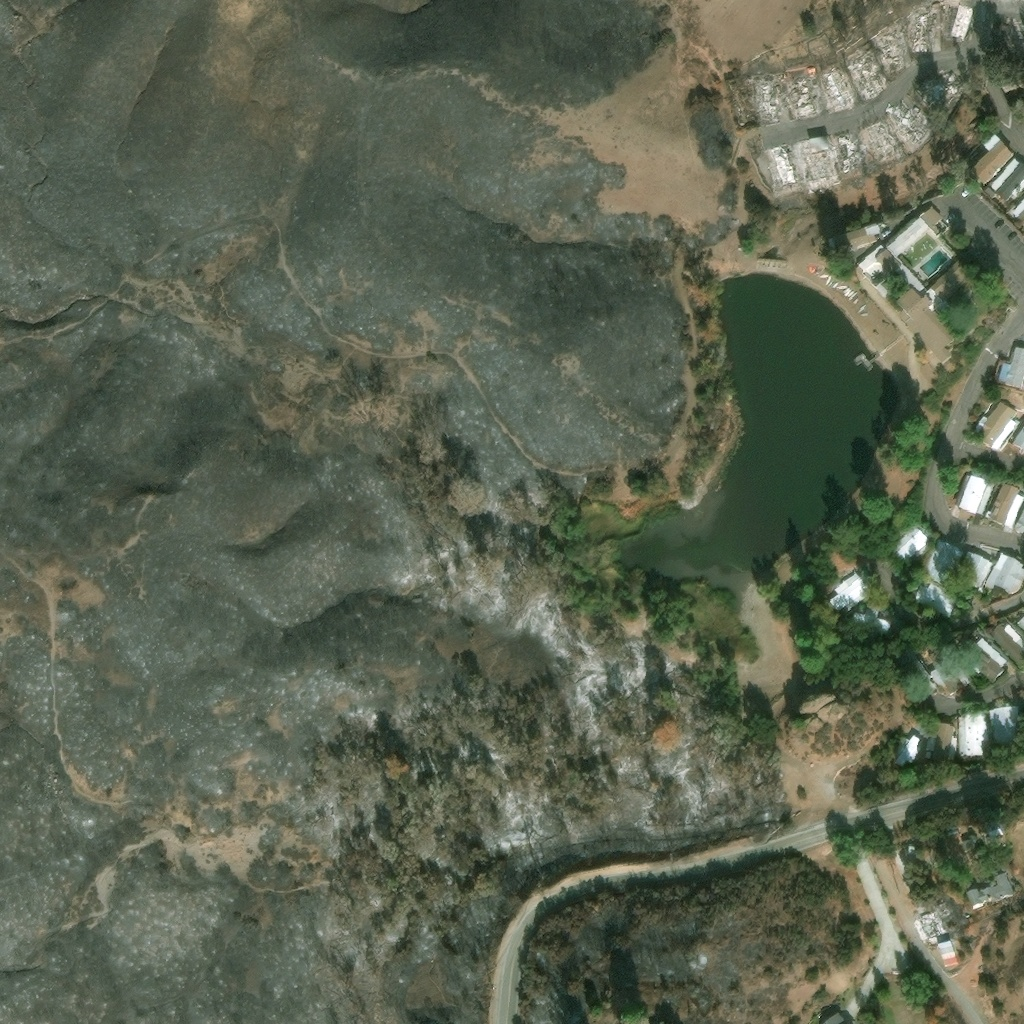0 no-damage: (858, 204, 975, 362), (973, 398, 1021, 451), (971, 133, 1015, 185), (923, 538, 964, 587), (964, 637, 1008, 682), (966, 868, 1015, 907), (830, 569, 873, 613), (890, 524, 934, 566), (956, 470, 996, 516), (953, 549, 993, 592), (957, 708, 990, 759), (985, 551, 1023, 594), (991, 482, 1023, 533), (914, 582, 958, 617), (925, 720, 961, 760), (991, 157, 1023, 200), (990, 622, 1023, 662), (983, 76, 1014, 118), (988, 704, 1019, 744), (997, 345, 1023, 389), (892, 733, 923, 766), (903, 654, 933, 687), (854, 606, 893, 631), (937, 935, 962, 967), (931, 665, 955, 689), (1007, 199, 1023, 226), (823, 1005, 847, 1023), (981, 824, 1006, 840), (1013, 426, 1023, 449), (962, 835, 978, 849), (946, 826, 960, 835), (909, 841, 915, 853)
1 minor-damage: (827, 222, 883, 256)
2 major-damage: (942, 4, 973, 44)
3 destroyed: (798, 134, 841, 189), (919, 65, 969, 111), (890, 95, 931, 147), (763, 141, 807, 188), (849, 49, 887, 99), (787, 73, 826, 121), (871, 27, 909, 72), (831, 128, 867, 173), (824, 67, 859, 113), (862, 115, 898, 158), (911, 7, 942, 54), (753, 80, 787, 120), (918, 906, 945, 936), (1010, 20, 1023, 47), (937, 896, 948, 912)
4 un-classified: (1012, 282, 1022, 294)
